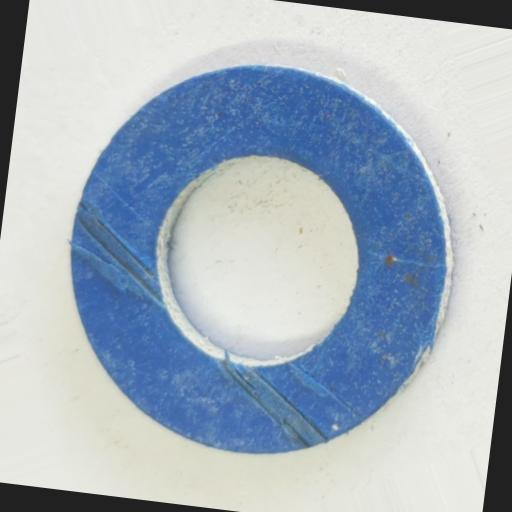defect: (206, 350, 336, 451), (66, 200, 178, 307), (282, 360, 366, 420)
